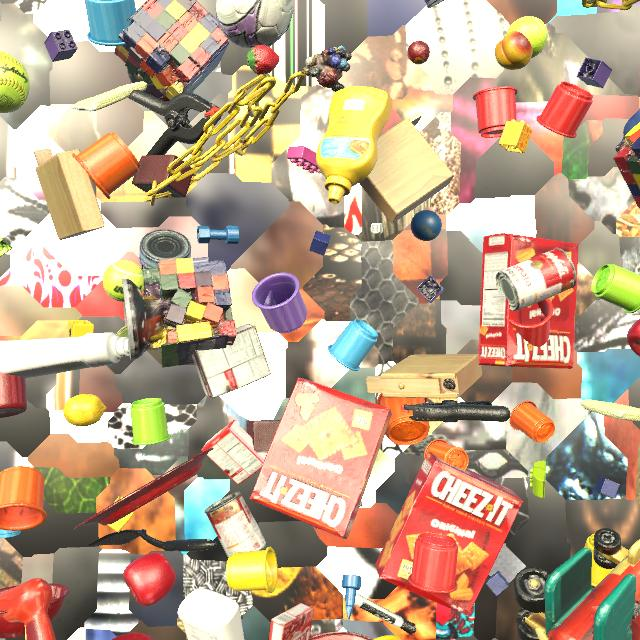ycb_002_master_chef_can: (424, 0, 444, 8)
ycb_003_cracker_box: (375, 452, 523, 616), (249, 377, 392, 539), (478, 233, 579, 369)
ycb_005_tomato_soup_can: (496, 248, 577, 311), (204, 491, 266, 558)
ycb_006_mustard_bottle: (316, 87, 392, 204)
ycb_007_tuna_fish_can: (139, 229, 191, 269)
ycb_008_pudding_box: (192, 324, 271, 399), (315, 501, 363, 529)
ycb_009_gelatin_box: (202, 420, 267, 485), (269, 603, 314, 640)
ycb_010_potted_meat_can: (116, 325, 153, 352)
ycb_012_strawberry: (246, 45, 280, 75)
ycb_013_apple: (123, 552, 176, 606), (627, 319, 640, 357)
ycb_014_lemon: (63, 394, 106, 427)
ycb_015_peach: (495, 31, 533, 70)
